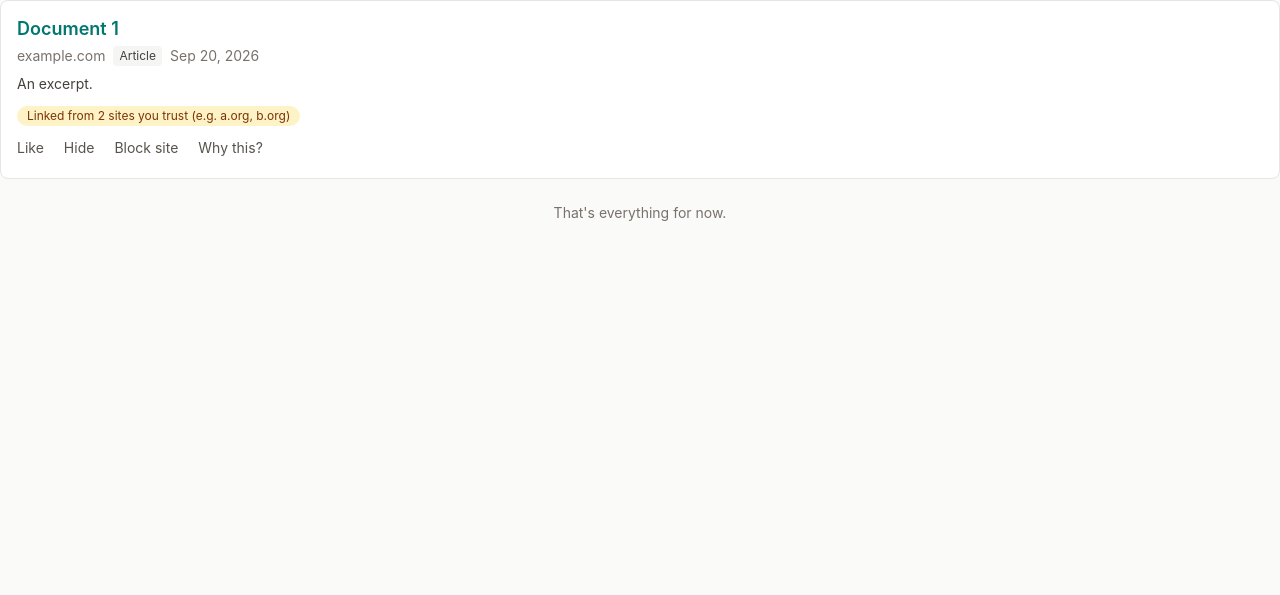
it: opens the score breakdown
The image size is (1280, 595).
Click the button "Why this?" at x=231, y=148, box x1=190 y1=134 x2=271 y2=162
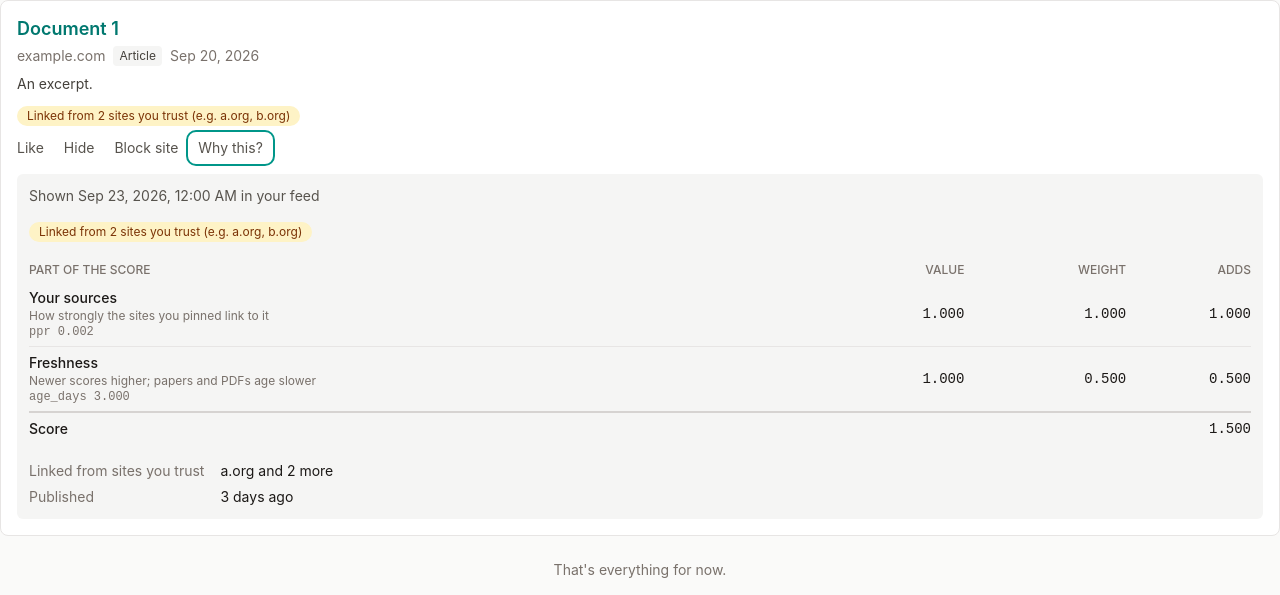
Check: the column heading "Your sources" is shown, box x1=29 y1=282 x2=831 y2=346
Check: the column heading "Score" is shown, box x1=29 y1=412 x2=1138 y2=445
Check: the text "a.org and 2 more" is shown, box x1=220 y1=462 x2=333 y2=479
